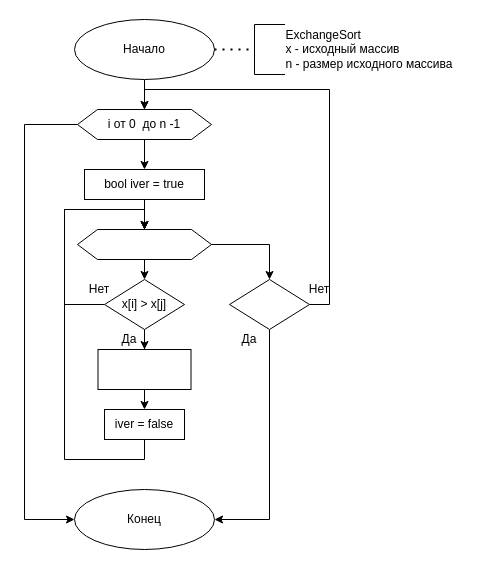
The diagram is 482 pixels wide and 567 high, and some of its shapes have lost their labels. The shapes that lost their labels are listed below. From the top down, each one's centre as x and y in pixels, then its label:
At point 144,244: "j от i до n".
At point 269,304: "iver".
At point 144,369: "Обмен местами x[i] и x[j]".
